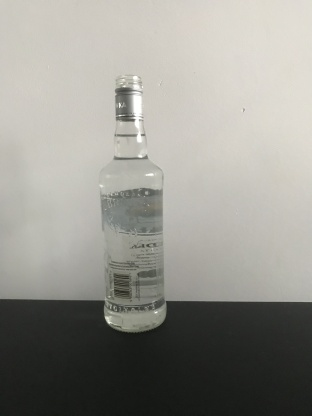nakretka: (112, 72, 145, 123)
